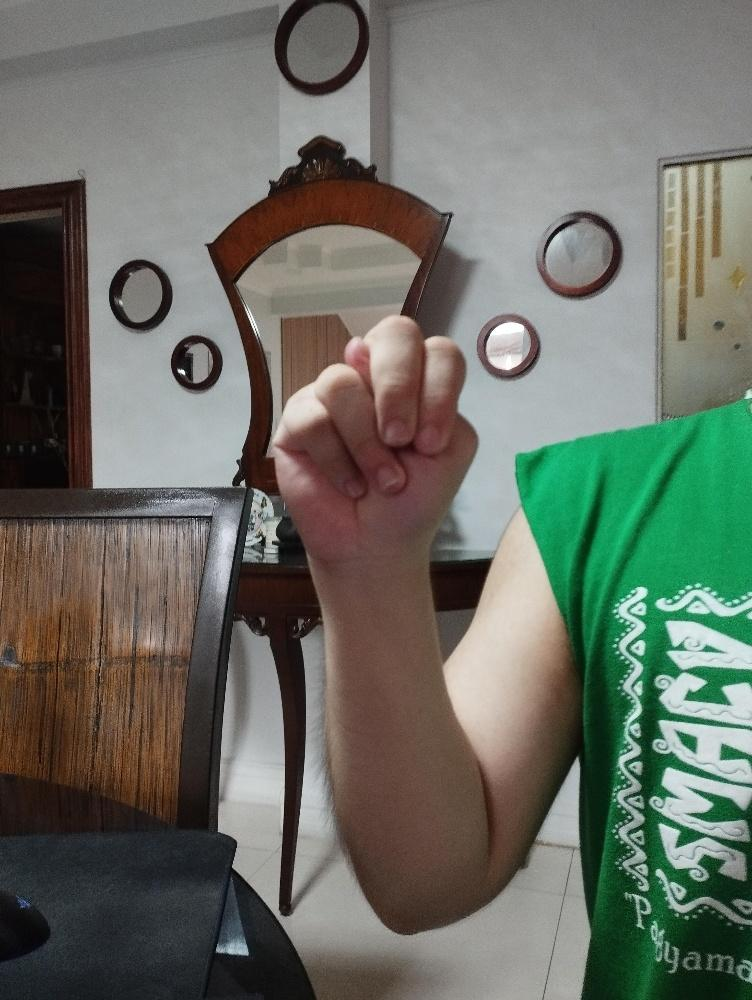n: (267, 310, 482, 569)
